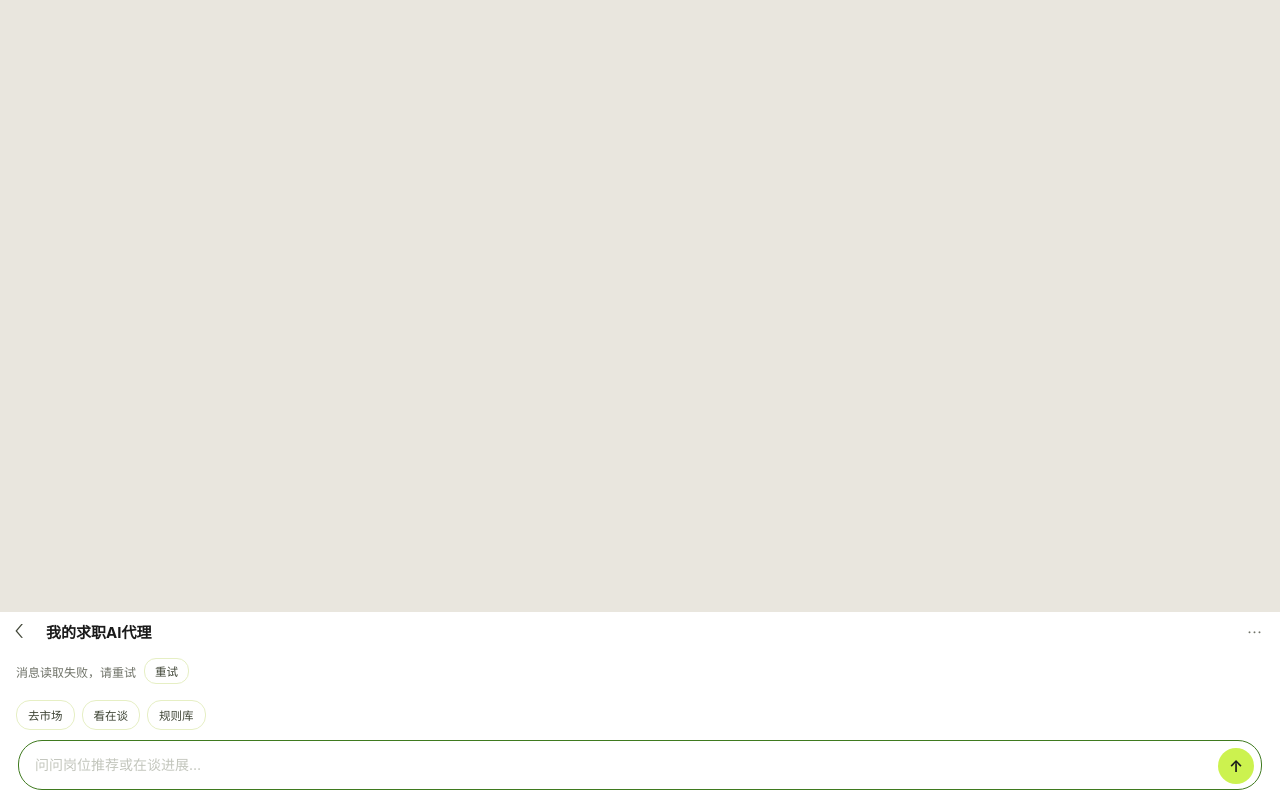
Test: 问AI代理 · Backend 真实聊天接线（use助手会话） › 首读失败不当作空历史：错误行 + 重试（重读）恢复
(page scrolled)
Expected: the text "消息读取失败，请重试" is shown, [16,664,136,680]
Expected: the text "你可以直接问我岗位推荐和在谈进展" is not shown
Click the button "重试" at coordinates (166, 671), box [144,658,189,684]
(page scrolled)
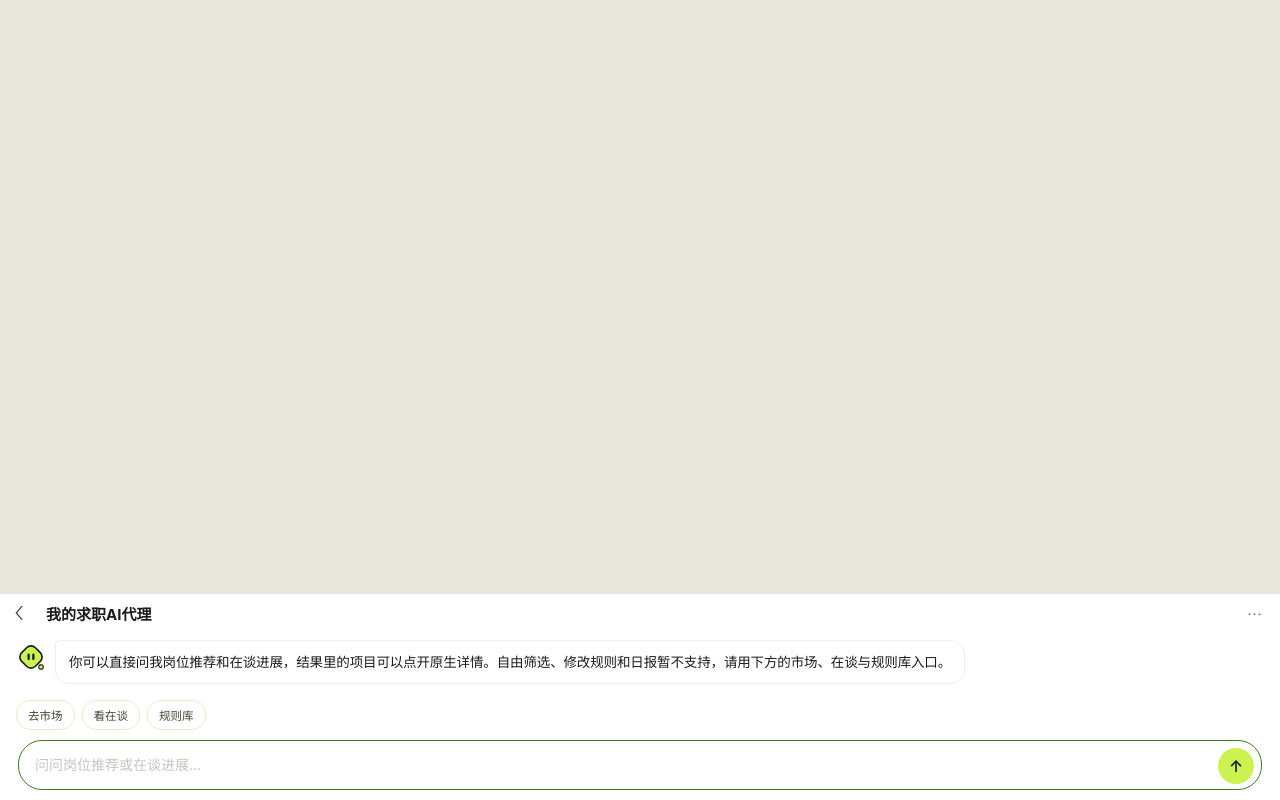
Expected: the text box is enabled, [35,746,1208,784]
Expected: the text "消息读取失败，请重试" is gone
Expected: the text "你可以直接问我岗位推荐和在谈进展" is shown, [69,654,951,670]
